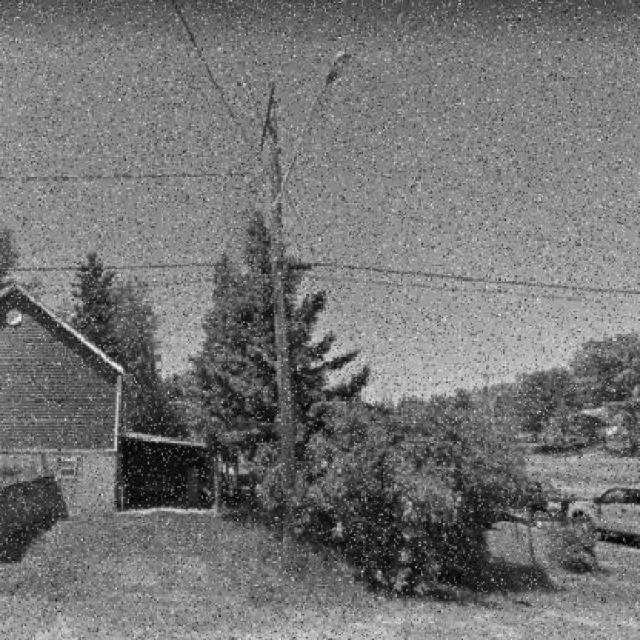pole: (206, 18, 380, 592)
